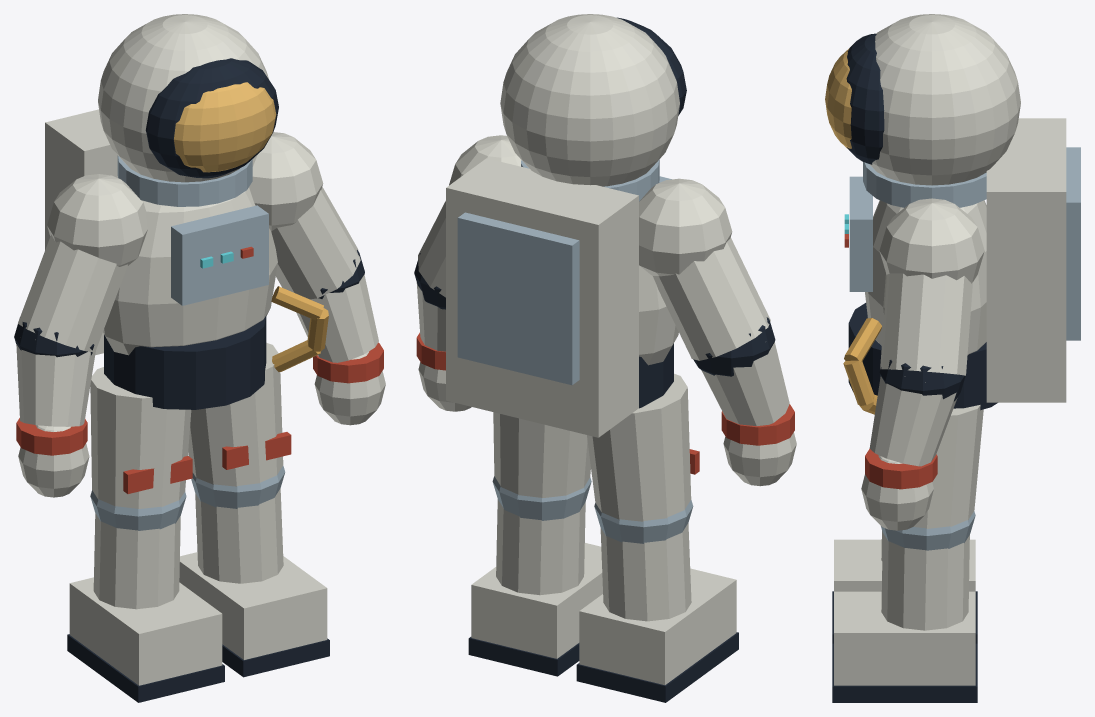
File: 04_ExplorerAstronaut.obj
3 views of the same model, side by side, from view 1: azimuth 30°, elevation 25°; view 2: azimuth 150°, elevation 25°; view 3: azimuth 270°, elevation 25° (orthographic). The views are drawn at different scales.
Visible parts, largest first — view 1: Torso, Helmet, Left_boot, Left_thigh, Waist, Right_boot, Left_upper_arm, Chest_controls, Right_thigh, Gold_visor, Left_shoulder, Left_shin (+22 smaller); view 2: Life_support, Helmet, Back_panel, Left_thigh, Left_boot, Left_upper_arm, Right_boot, Left_shoulder, Left_shin, Right_shin, Right_thigh, Left_forearm (+16 smaller); view 3: Life_support, Helmet, Right_boot, Right_upper_arm, Right_shin, Right_shoulder, Right_forearm, Right_thigh, Visor_frame, Torso, Left_boot, Back_panel (+11 smaller).
Boxes of the visible parts, x1,y1,x2,y2 form: Torso: (103, 187, 277, 355); Helmet: (98, 14, 269, 182); Left_boot: (69, 577, 222, 685); Left_thigh: (90, 367, 191, 508); Waist: (104, 316, 266, 409); Right_boot: (179, 552, 327, 659); Left_upper_arm: (18, 234, 127, 352); Chest_controls: (171, 205, 268, 305); Right_thigh: (188, 342, 283, 486); Gold_visor: (174, 82, 276, 172); Left_shoulder: (47, 174, 147, 266); Left_shin: (93, 513, 180, 609); Life_support: (446, 158, 638, 437); Helmet: (500, 14, 679, 186); Back_panel: (457, 212, 579, 385); Left_thigh: (587, 373, 691, 521); Left_boot: (579, 568, 736, 684); Left_upper_arm: (653, 237, 770, 360); Right_boot: (471, 543, 602, 658); Left_shoulder: (639, 178, 732, 276); Left_shin: (600, 523, 691, 621); Right_shin: (496, 499, 585, 595); Right_thigh: (493, 412, 590, 498); Left_forearm: (701, 342, 789, 426); Life_support: (986, 118, 1066, 402); Helmet: (869, 14, 1020, 185); Right_boot: (834, 591, 975, 685); Right_upper_arm: (880, 273, 972, 375); Right_shin: (881, 533, 969, 630); Right_shoulder: (879, 198, 984, 283); Right_forearm: (869, 376, 957, 466); Right_thigh: (913, 405, 983, 528); Visor_frame: (846, 33, 884, 164); Torso: (865, 200, 986, 354); Left_boot: (834, 539, 975, 591); Back_panel: (1066, 147, 1080, 340).
Bounding box in the file's own units: 1.16 × 1.92 × 0.705.
